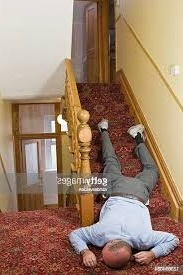fall: (68, 118, 177, 267)
